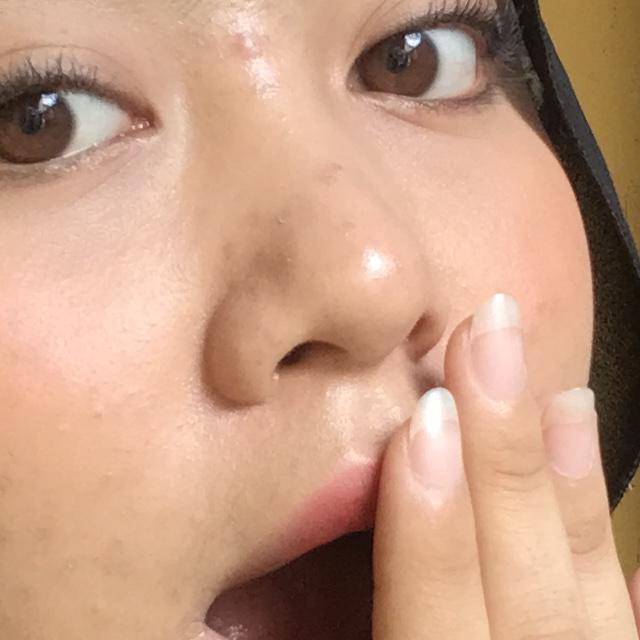ngantuk: (160, 246, 640, 640)
